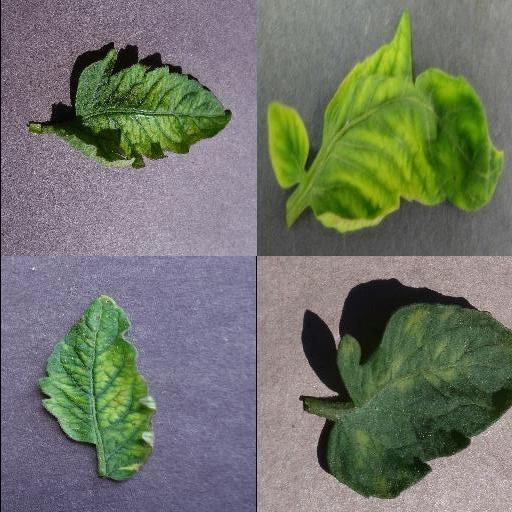Leaf Mold: (329, 303, 512, 499)
Mosaic Virus: (38, 294, 156, 482), (75, 49, 231, 171)
Yellow Leaf Curl Virus: (314, 7, 504, 235), (266, 98, 308, 188)
